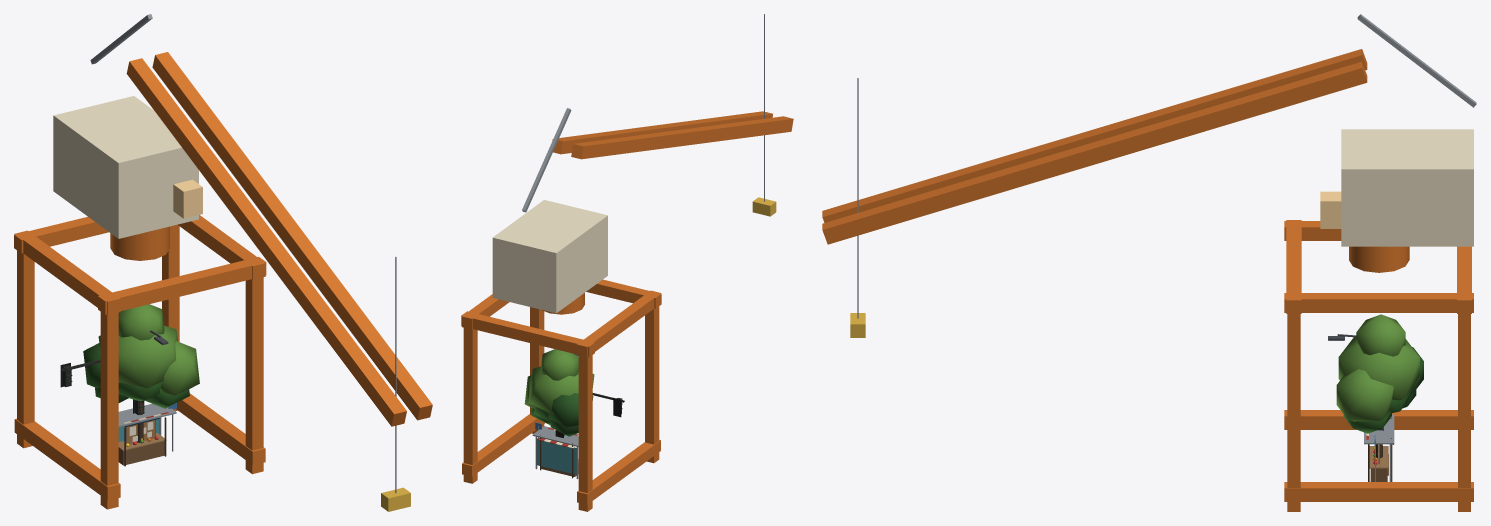
File: kit.glb
3 views of the same model, side by side, from view 1: azimuth 30°, elevation 25°; view 2: azimuth 150°, elevation 25°; view 3: azimuth 270°, elevation 25° (orthographic). The views are drawn at different scales.
Parts seen in each view (by area): view 1: crane, tree_b, stall_market, tree_a, bus_stop, signal_pole, board_notice; view 2: crane, tree_b, bus_stop, tree_a, stall_market; view 3: crane, tree_b, bus_stop, stall_market.
Part boxes in pixels (<box>): crane: <box>14,14,432,511</box>; tree_b: <box>83,304,199,442</box>; stall_market: <box>118,412,168,466</box>; tree_a: <box>95,382,189,408</box>; bus_stop: <box>118,403,176,451</box>; signal_pole: <box>60,359,144,440</box>; board_notice: <box>124,418,159,444</box>; crane: <box>461,14,793,511</box>; tree_b: <box>524,349,594,427</box>; bus_stop: <box>532,422,578,478</box>; tree_a: <box>531,406,578,436</box>; stall_market: <box>538,427,578,478</box>; crane: <box>822,14,1476,511</box>; tree_b: <box>1336,314,1423,458</box>; bus_stop: <box>1364,414,1394,481</box>; stall_market: <box>1366,418,1393,481</box>.
Bounding box in the file's own units: 10 × 26.67 × 34.52.
